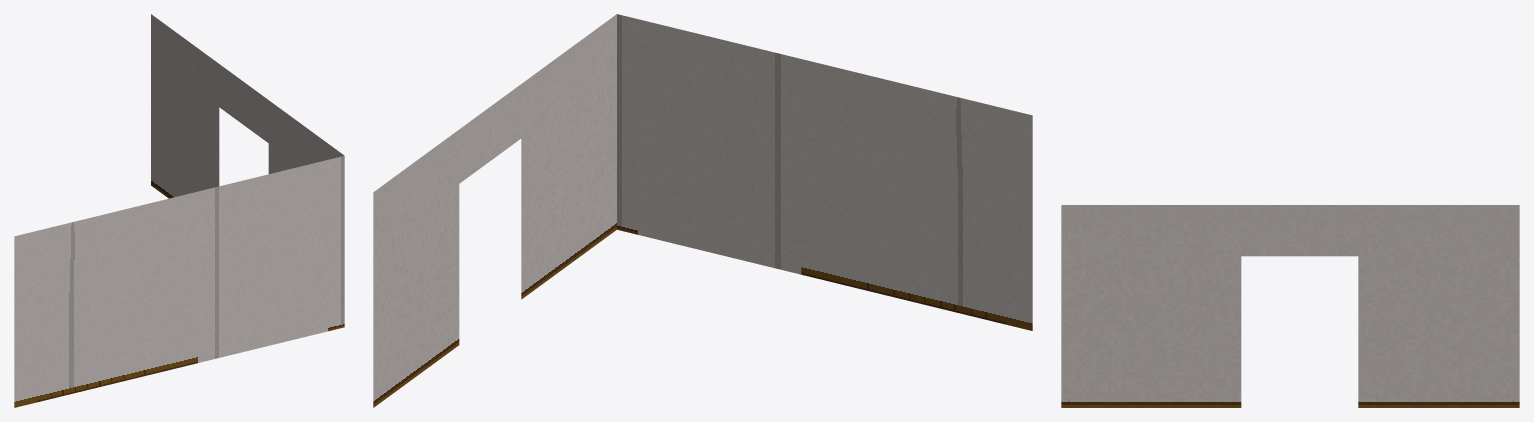
The model's file is emp_walls.glb.
3 renders of one model, left to right at view 1: azimuth 30°, elevation 25°; view 2: azimuth 150°, elevation 25°; view 3: azimuth 270°, elevation 25°, orthographic. The views are drawn at different scales.
Parts seen in each view (by area): view 1: cornerWalls-col; view 2: cornerWalls-col; view 3: cornerWalls-col.
Part boxes in pixels (x1,y1,x2,y2): cornerWalls-col: [14, 14, 344, 407]; cornerWalls-col: [373, 14, 1032, 407]; cornerWalls-col: [1061, 205, 1519, 407].
Size of the model in its own units: 4.91 by 2.43 by 4.98.
1 material, 1 textured.
